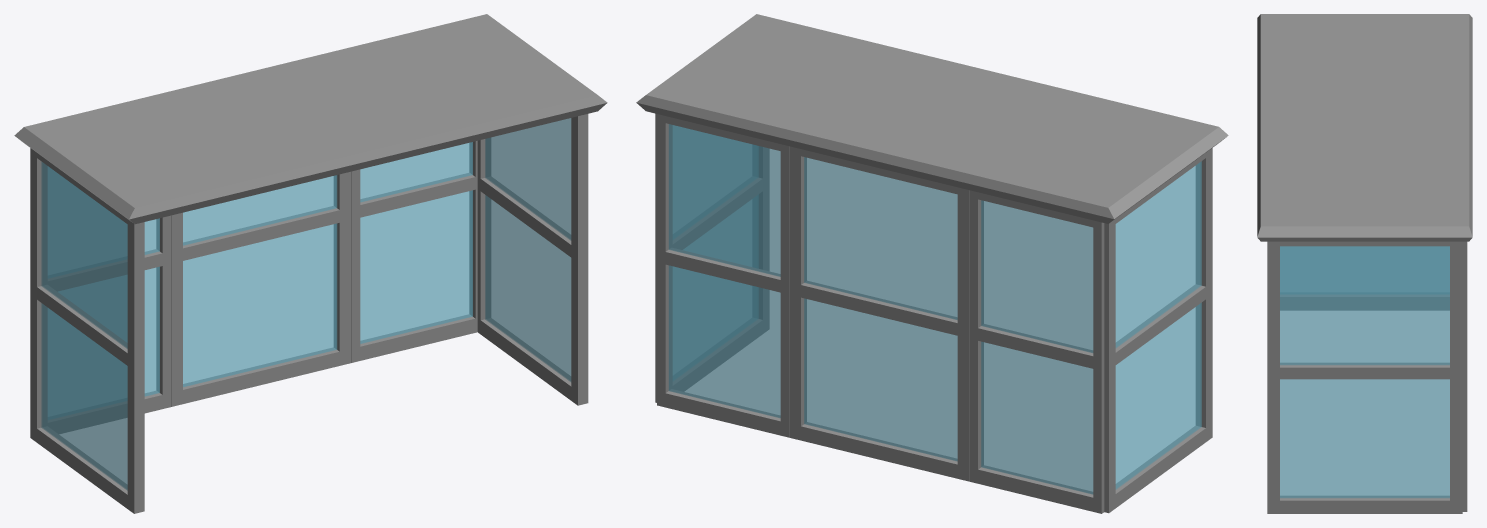
The model's file is Bus-stop.fbx.
3 views of the same model, side by side, from view 1: azimuth 30°, elevation 25°; view 2: azimuth 150°, elevation 25°; view 3: azimuth 270°, elevation 25° (orthographic). The views are drawn at different scales.
Visible parts, largest first — view 1: Bus-stand; view 2: Bus-stand; view 3: Bus-stand.
Boxes of the visible parts, x1,y1,x2,y2 form: Bus-stand: (14, 14, 607, 513); Bus-stand: (636, 14, 1228, 513); Bus-stand: (1257, 14, 1472, 513).
Bounding box in the file's own units: 422 × 261 × 175.
